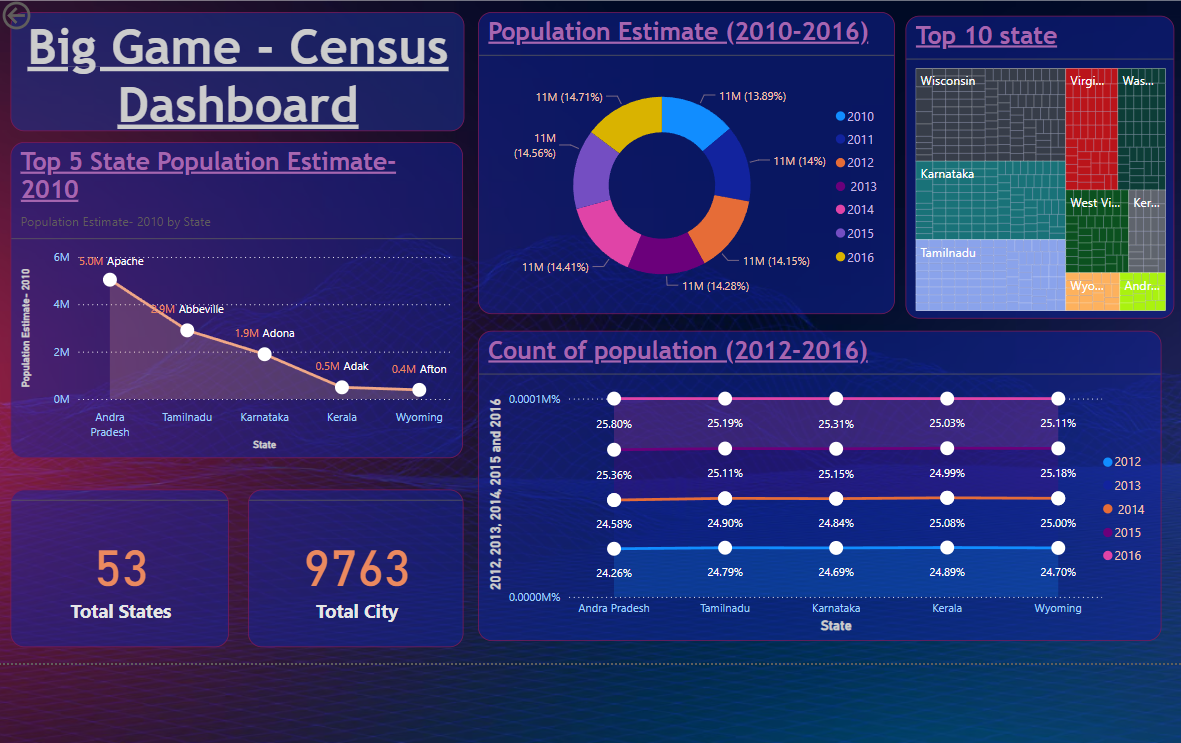

The dashboard page shown, as its layout file describes it:
{"tool":"powerbi","page":{"name":"Page 1","canvas":[1280,720],"ordinal":0},"visuals":[{"type":"textbox","title":"Big Game - Census Dashboard","box":[12.9,15.7,490,128.6],"z":0},{"type":"lineChart","title":" Top 5 State Population Estimate- 2010","fields":{"Y":["Sum(PEP_2016_PEPANNRES_with_ann.Population Estimate (as of July 1) - 2010)"],"Category":["PEP_2016_PEPANNRES_with_ann.State"]},"box":[13.5,156.7,488.9,341.7],"z":1000},{"type":"donutChart","title":"Population  Estimate (2010-2016)","fields":{"Y":["Sum(PEP_2016_PEPANNRES_with_ann.Population Estimate (as of July 1) - 2010)","Sum(PEP_2016_PEPANNRES_with_ann.Population Estimate (as of July 1) - 2011)","Sum(PEP_2016_PEPANNRES_with_ann.Population Estimate (as of July 1) - 2012)","Sum(PEP_2016_PEPANNRES_with_ann.Population Estimate (as of July 1) - 2013)","Sum(PEP_2016_PEPANNRES_with_ann.Population Estimate (as of July 1) - 2014)","Sum(PEP_2016_PEPANNRES_with_ann.Population Estimate (as of July 1) - 2015)","Sum(PEP_2016_PEPANNRES_with_ann.Population Estimate (as of July 1) - 2016)"]},"box":[518.3,16.7,450,326.7],"z":2000},{"type":"card","fields":{"Values":["Count(PEP_2016_PEPANNRES_with_ann.State)"]},"box":[12.9,531.4,235.7,170],"z":3000},{"type":"card","fields":{"Values":["Count(PEP_2016_PEPANNRES_with_ann.City)"]},"box":[270,531.4,232.9,170],"z":4000},{"type":"actionButton","box":[0,0,100,40],"z":5002},{"type":"hundredPercentStackedAreaChart","title":"Count of population (2012-2016)","fields":{"Category":["PEP_2016_PEPANNRES_with_ann.State"],"Y":["Sum(PEP_2016_PEPANNRES_with_ann.Population Estimate (as of July 1) - 2012)","Sum(PEP_2016_PEPANNRES_with_ann.Population Estimate (as of July 1) - 2013)","Count(PEP_2016_PEPANNRES_with_ann.Population Estimate (as of July 1) - 2014)","Sum(PEP_2016_PEPANNRES_with_ann.Population Estimate (as of July 1) - 2015)","Sum(PEP_2016_PEPANNRES_with_ann.Population Estimate (as of July 1) - 2016)"]},"box":[518.6,360.6,738.7,334.9],"z":5003},{"type":"treemap","title":"Top 10 state","fields":{"Group":["PEP_2016_PEPANNRES_with_ann.State"],"Details":["PEP_2016_PEPANNRES_with_ann.City"],"Values":["CountNonNull(PEP_2016_PEPANNRES_with_ann.State)"]},"box":[980,20,290,327.1],"z":5004}]}

Visuals, with their boxes on the page's 1280x720 design canvas (x1, y1, x2, y2). These are canvas units, not pixel positions in the 1181x743 screenshot, which may show the page scaled, cropped or inside an application window:
"Big Game - Census Dashboard" textbox: box=[13, 16, 503, 144]
" Top 5 State Population Estimate- 2010" lineChart: box=[14, 157, 502, 498]
"Population  Estimate (2010-2016)" donutChart: box=[518, 17, 968, 343]
card - Count(PEP_2016_PEPANNRES_with_ann.State): box=[13, 531, 249, 701]
card - Count(PEP_2016_PEPANNRES_with_ann.City): box=[270, 531, 503, 701]
actionButton: box=[0, 0, 100, 40]
"Count of population (2012-2016)" hundredPercentStackedAreaChart: box=[519, 361, 1257, 696]
"Top 10 state" treemap: box=[980, 20, 1270, 347]
